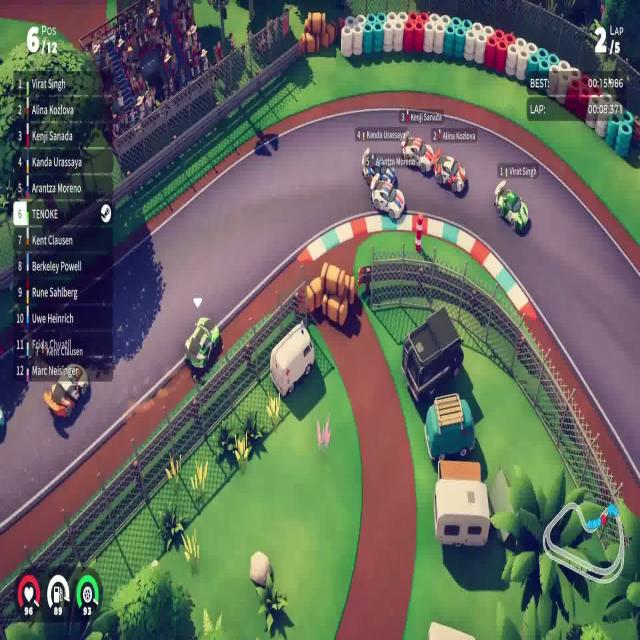car: (46, 364, 88, 424), (183, 316, 221, 374), (368, 173, 407, 222), (494, 180, 528, 234), (401, 128, 434, 178), (362, 146, 399, 186), (433, 153, 467, 195)
